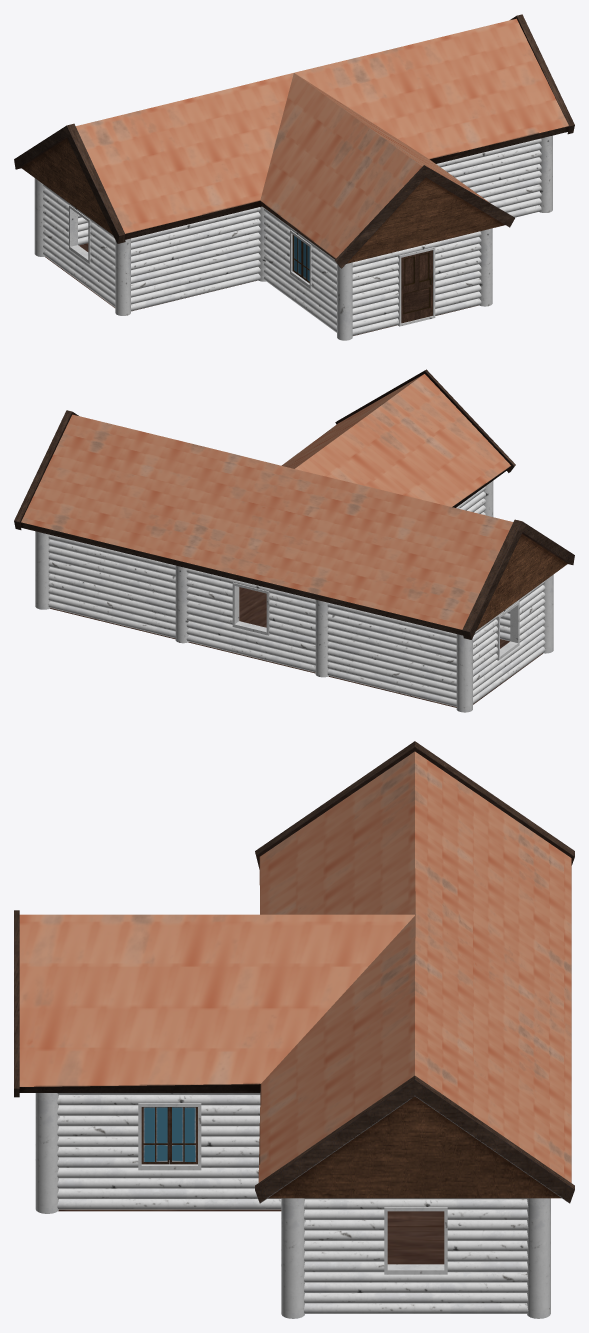
File: Chata Mesh.fbx
The picture shows the model from 3 angles, top to bottom: view 1: azimuth 30°, elevation 25°; view 2: azimuth 150°, elevation 25°; view 3: azimuth 270°, elevation 25°; orthographic projection. The views are drawn at different scales.
Visible parts, largest first — view 1: Dvere stena.024, Dvere stena.014, Dvere stena.011, Dvere stena.013, Dvere stena.015, Dvere stena.002, Dvere stena.016, Dvere stena.026, Dvere stena.012, Dvere stena.019; view 2: Dvere stena.024, Dvere stena.016, Dvere stena.018, Dvere stena.015, Plane, Dvere stena.014, Dvere stena.020, Dvere stena.026, Dvere stena.013; view 3: Dvere stena.024, Dvere stena.015, Dvere stena.013, Plane, Dvere stena.014, Dvere stena.011, Dvere stena.016, Dvere stena.021, Dvere stena.022, Dvere stena.017, Dvere stena.019.
Part boxes in pixels (bbox=[...]): Dvere stena.024: bbox=[14, 14, 574, 268]; Dvere stena.014: bbox=[115, 135, 552, 315]; Dvere stena.011: bbox=[337, 228, 492, 340]; Dvere stena.013: bbox=[258, 206, 336, 332]; Dvere stena.015: bbox=[43, 184, 115, 307]; Dvere stena.002: bbox=[401, 250, 432, 323]; Dvere stena.016: bbox=[34, 178, 88, 256]; Dvere stena.026: bbox=[69, 205, 92, 263]; Dvere stena.012: bbox=[398, 247, 435, 326]; Dvere stena.019: bbox=[290, 230, 313, 288]; Dvere stena.024: bbox=[14, 369, 574, 639]; Dvere stena.016: bbox=[35, 531, 472, 712]; Dvere stena.018: bbox=[175, 565, 328, 677]; Dvere stena.015: bbox=[37, 532, 545, 712]; Plane: bbox=[50, 587, 542, 707]; Dvere stena.014: bbox=[500, 574, 553, 653]; Dvere stena.020: bbox=[232, 582, 270, 635]; Dvere stena.026: bbox=[496, 601, 519, 660]; Dvere stena.013: bbox=[456, 486, 485, 515]; Dvere stena.024: bbox=[14, 741, 574, 1203]; Dvere stena.015: bbox=[304, 1198, 550, 1314]; Dvere stena.013: bbox=[57, 1093, 281, 1209]; Plane: bbox=[58, 1107, 444, 1264]; Dvere stena.014: bbox=[281, 1198, 304, 1318]; Dvere stena.011: bbox=[35, 1093, 58, 1213]; Dvere stena.016: bbox=[527, 1198, 549, 1318]; Dvere stena.021: bbox=[141, 1107, 169, 1164]; Dvere stena.022: bbox=[170, 1107, 197, 1164]; Dvere stena.017: bbox=[384, 1207, 447, 1274]; Dvere stena.019: bbox=[138, 1103, 201, 1170].
Size of the model in its own units: 1272 by 432 by 890.
